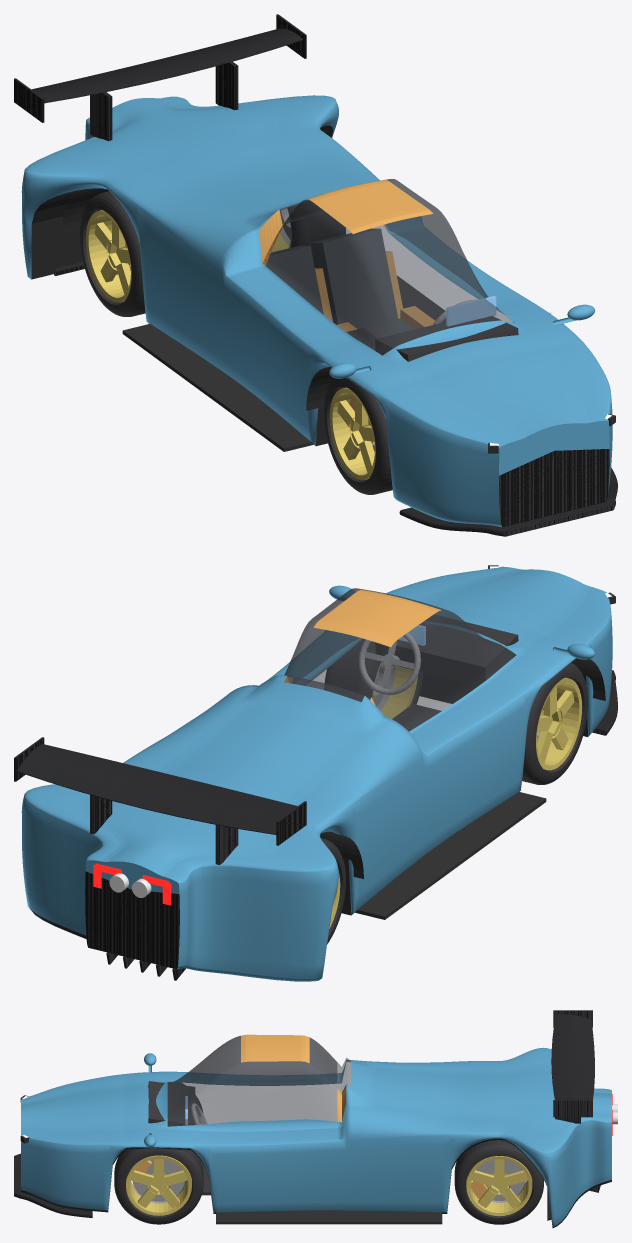
The model's file is lamborghini-huracan-sto.glb.
3 views of the same model, one above another, from view 1: azimuth 30°, elevation 25°; view 2: azimuth 150°, elevation 25°; view 3: azimuth 270°, elevation 25° (orthographic). The views are drawn at different scales.
Parts seen in each view (by area): view 1: Body_PrimaryPaint, Glass_Windows, Carbon_Exterior, Interior_Seats, WheelWells, Body_SecondaryPaint, Underbody, Rim_RR, Rim_FR, Tire_RR, Tire_FR, Interior_Dashboard (+3 smaller); view 2: Body_PrimaryPaint, Carbon_Exterior, Glass_Windows, WheelWells, Interior_Dashboard, Body_SecondaryPaint, Rim_FR, Tire_FR, Tire_FL, Underbody, Interior_SteeringWheel, Rim_FL (+4 smaller); view 3: Body_PrimaryPaint, Glass_Windows, Carbon_Exterior, WheelWells, Tire_RL, Tire_FL, Rim_FL, Rim_RL, Body_SecondaryPaint, Interior_Dashboard, Underbody, BrakeDisc_FL (+1 smaller).
Part boxes in pixels (x1,y1,x2,y2): Body_PrimaryPaint: (21, 95, 612, 527); Glass_Windows: (266, 179, 513, 355); Carbon_Exterior: (14, 14, 617, 536); Interior_Seats: (266, 228, 413, 338); WheelWells: (62, 188, 550, 451); Body_SecondaryPaint: (259, 180, 433, 265); Underbody: (31, 125, 333, 446); Rim_RR: (85, 210, 131, 302); Rim_FR: (329, 387, 375, 480); Tire_RR: (80, 191, 145, 316); Tire_FR: (323, 377, 392, 494); Interior_Dashboard: (375, 316, 518, 361); Body_PrimaryPaint: (21, 566, 612, 981); Carbon_Exterior: (14, 670, 617, 980); Glass_Windows: (284, 588, 516, 731); WheelWells: (320, 658, 605, 919); Interior_Dashboard: (375, 614, 518, 685); Body_SecondaryPaint: (284, 590, 441, 705); Rim_FR: (536, 677, 582, 770); Tire_FR: (522, 662, 587, 784); Tire_FL: (324, 638, 423, 705); Underbody: (30, 672, 587, 968); Interior_SteeringWheel: (358, 632, 420, 695); Rim_FL: (372, 662, 417, 718); Body_PrimaryPaint: (21, 1047, 611, 1226); Glass_Windows: (167, 1035, 350, 1126); Carbon_Exterior: (14, 1010, 600, 1220); WheelWells: (216, 1210, 442, 1224); Tire_RL: (454, 1140, 543, 1224); Tire_FL: (114, 1148, 203, 1224); Rim_FL: (126, 1155, 191, 1215); Rim_RL: (466, 1156, 532, 1216); Body_SecondaryPaint: (241, 1034, 346, 1122); Interior_Dashboard: (148, 1081, 195, 1126); Underbody: (21, 1138, 611, 1227); BrakeDisc_FL: (132, 1159, 185, 1203).
Size of the model in its own units: 1.95 by 1.22 by 4.65.
Materials: 17 (2 with a texture image).
